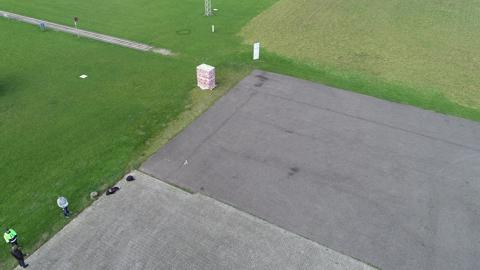RockwoolPallet: (196, 63, 217, 91)
